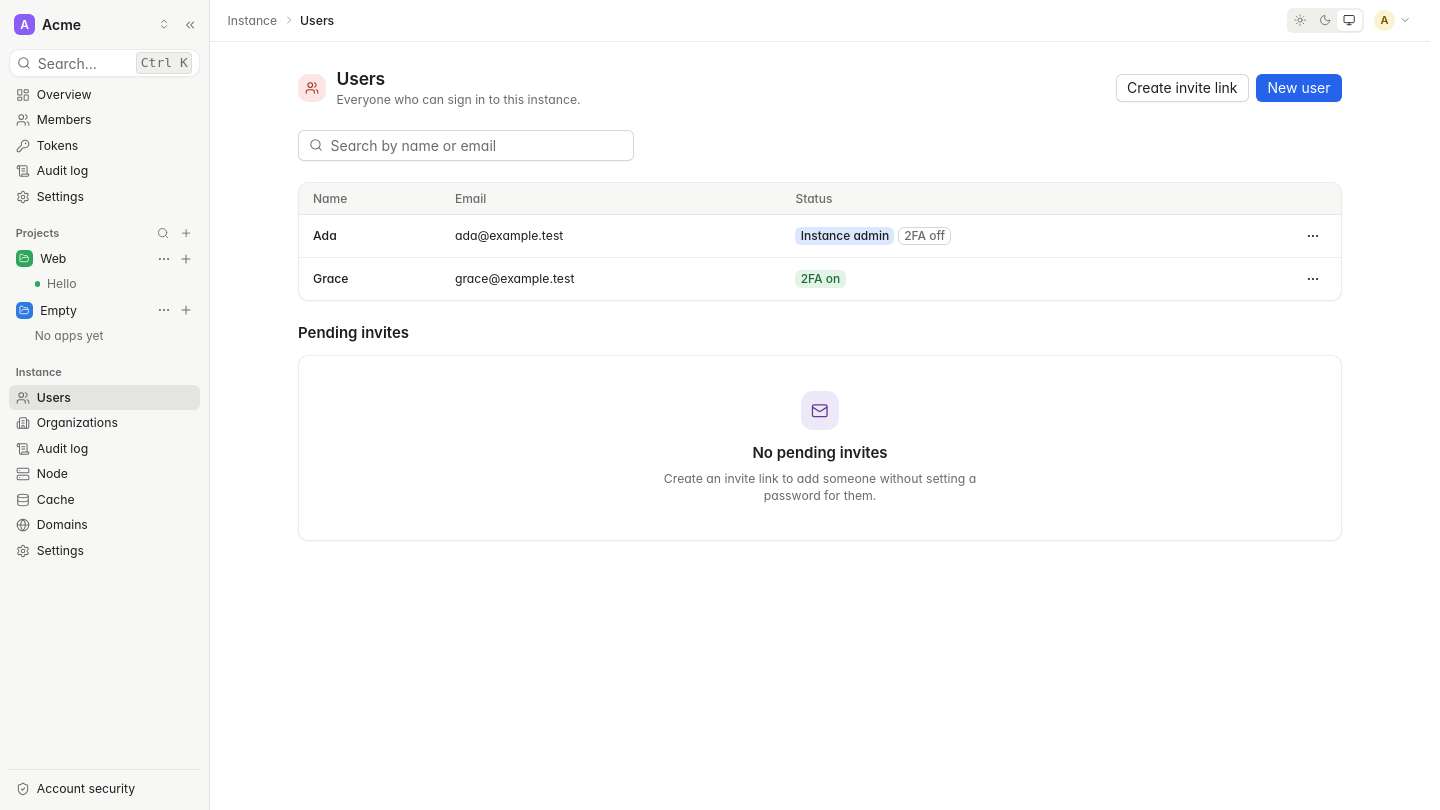
admin pages › temp password shown once
Click the button "New user" at (1299, 88), box [1256, 74, 1342, 102]
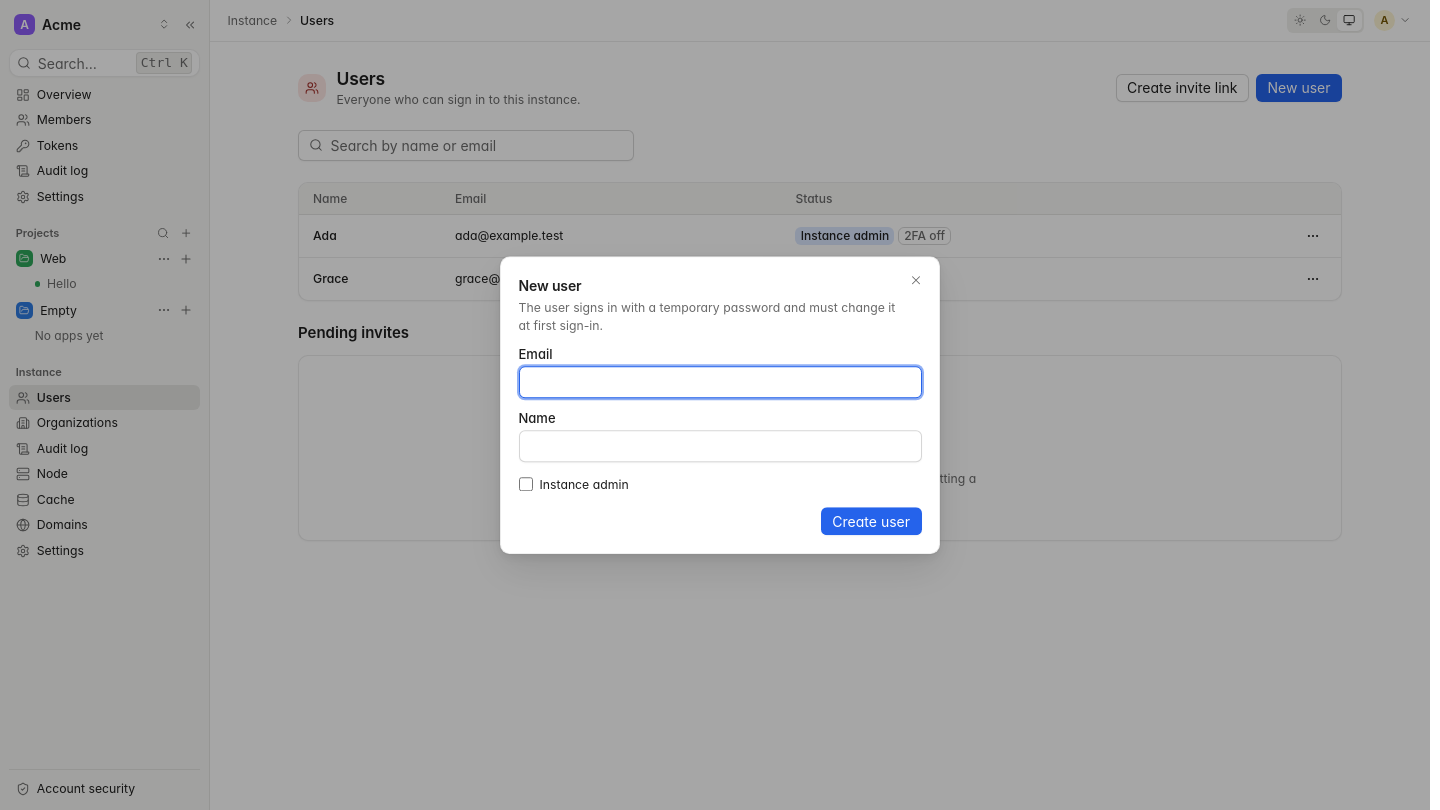
Type "linus@example.test" into the field labelled "Email" at (720, 382), box [518, 366, 922, 398]
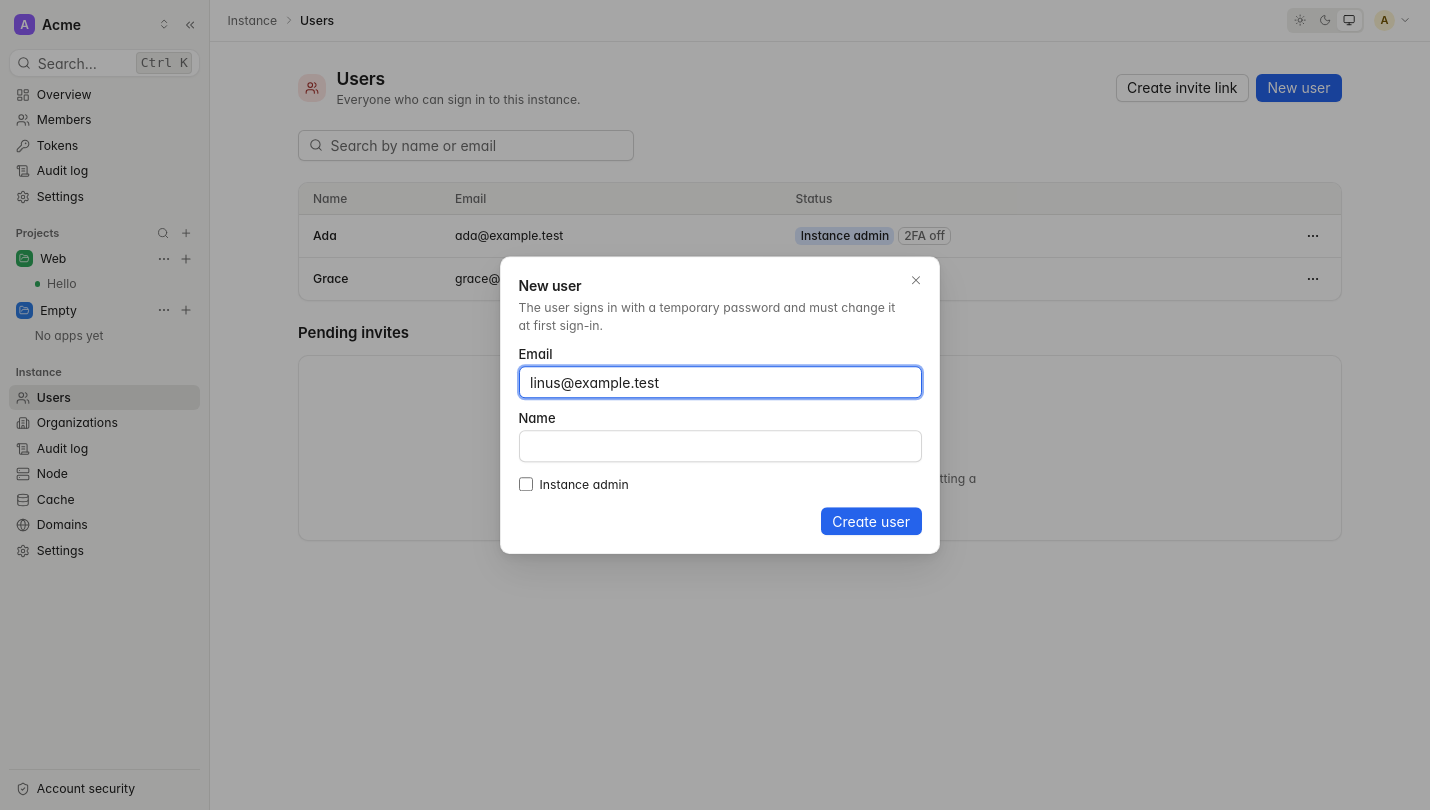
Type "Linus" into the field labelled "Name" at (720, 446), box [518, 430, 922, 462]
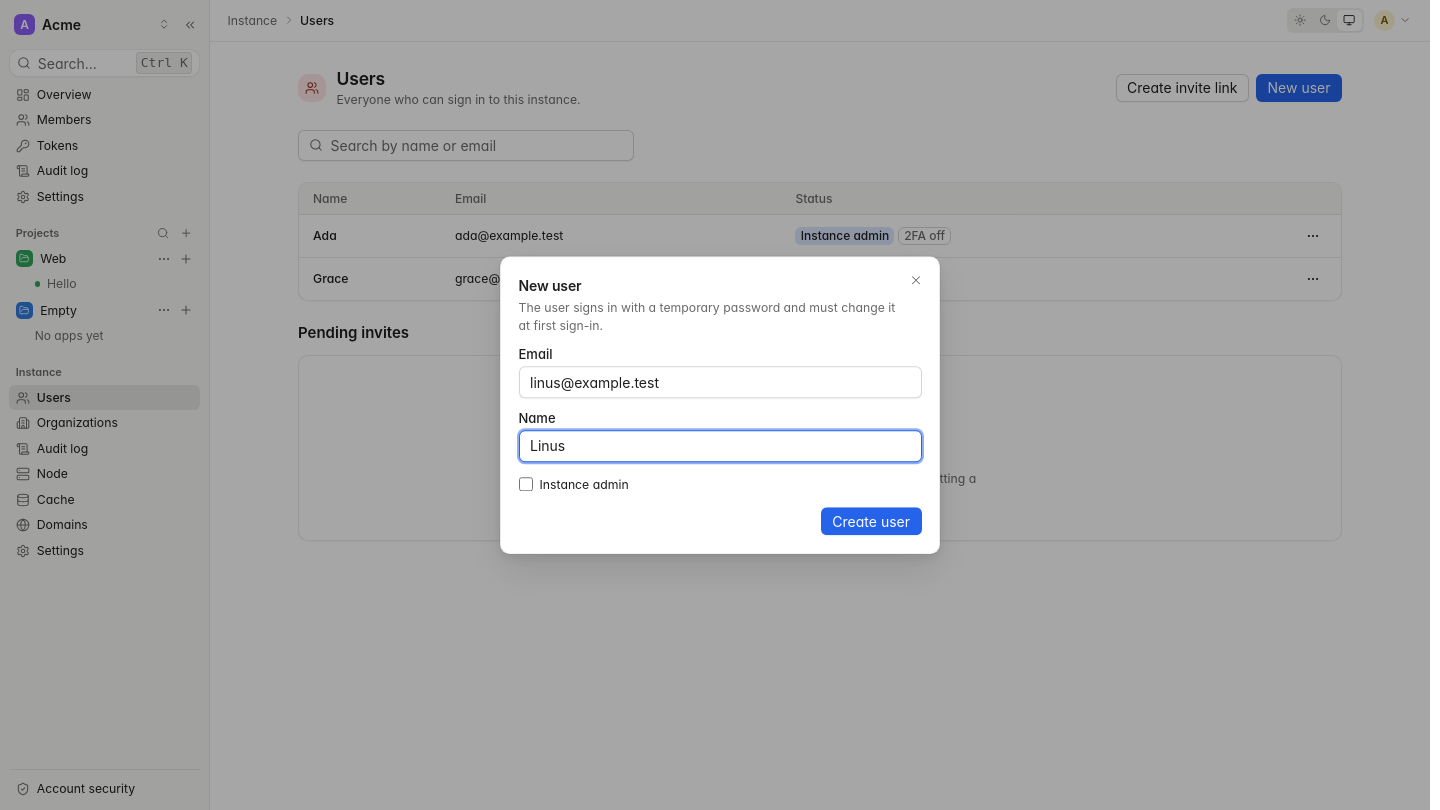
Click the button "Create user" at (871, 521), box [821, 507, 922, 535]
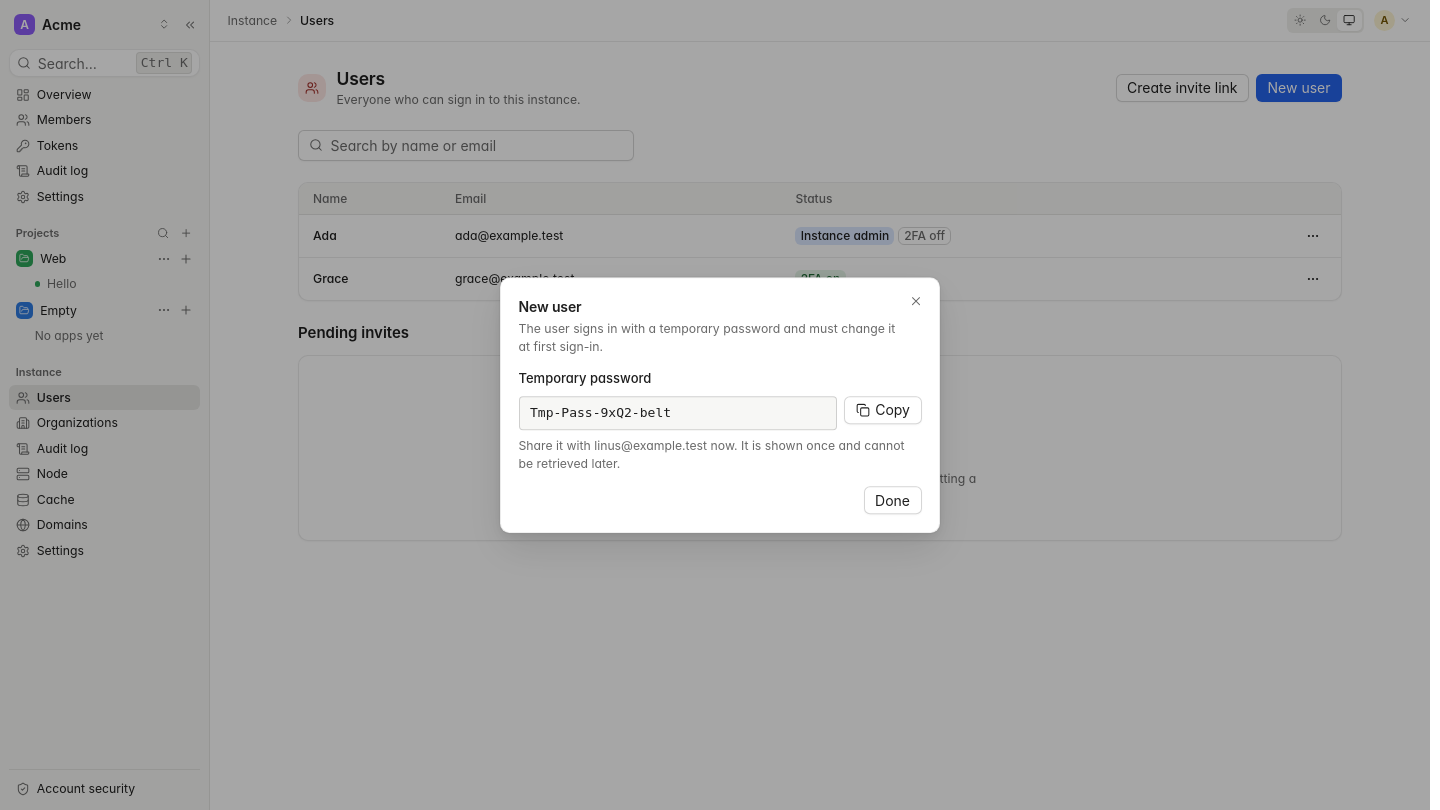
Result: the text "Tmp-Pass-9xQ2-belt" is shown at [518, 396, 838, 430]
Result: the button "Copy" is shown at [844, 396, 922, 424]
Click the button "Done" at (893, 500), box [864, 486, 922, 514]
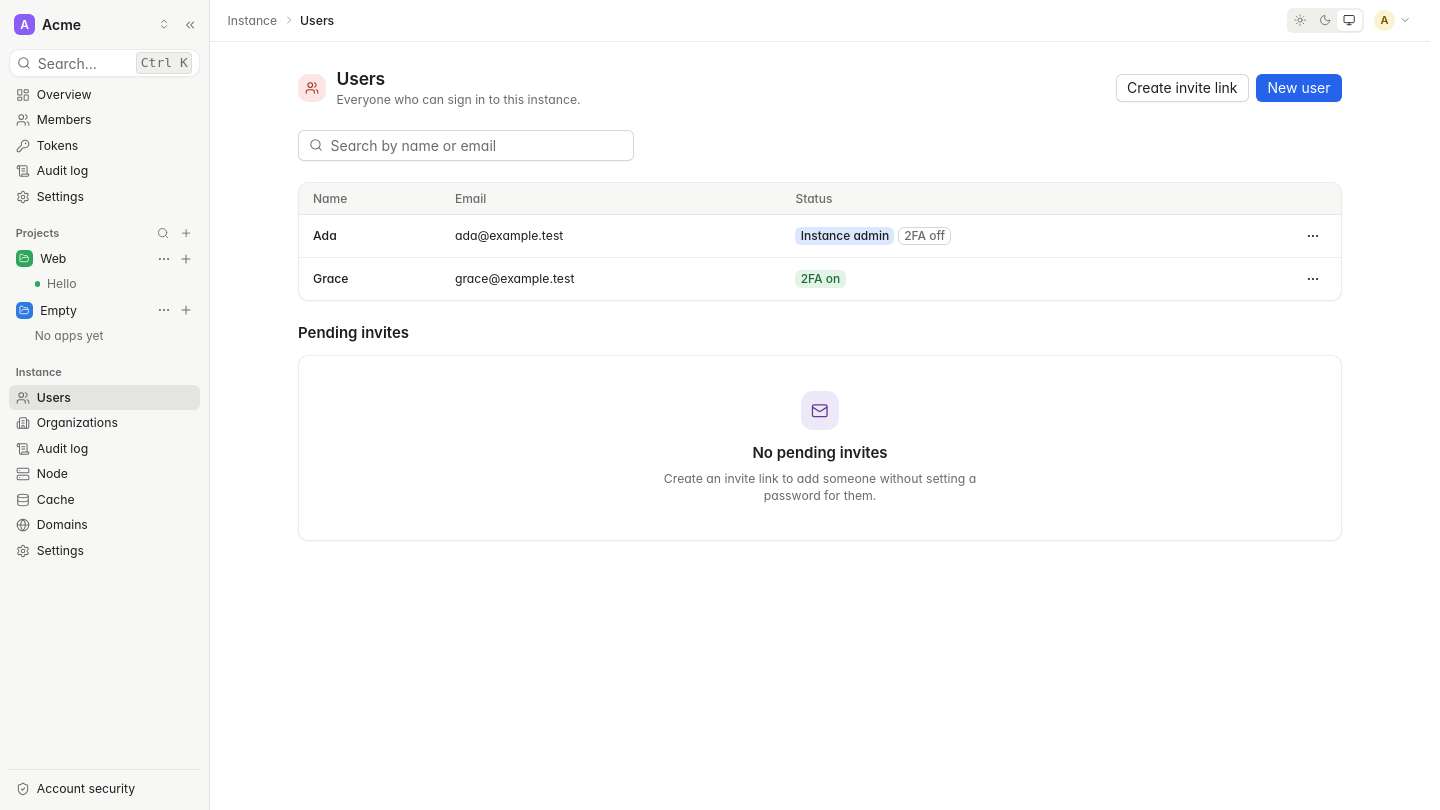
Result: the text "Tmp-Pass-9xQ2-belt" is gone
